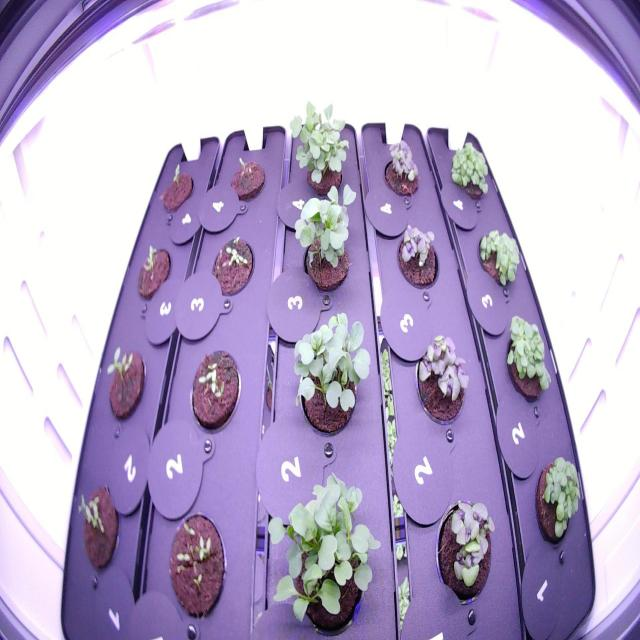germination: (162, 504, 228, 625), (431, 491, 498, 606), (411, 332, 475, 431), (70, 478, 124, 584), (186, 344, 244, 439), (99, 339, 150, 431), (204, 231, 258, 303), (394, 222, 442, 293), (380, 135, 424, 202), (132, 238, 174, 306), (224, 150, 268, 208), (157, 157, 197, 218)
